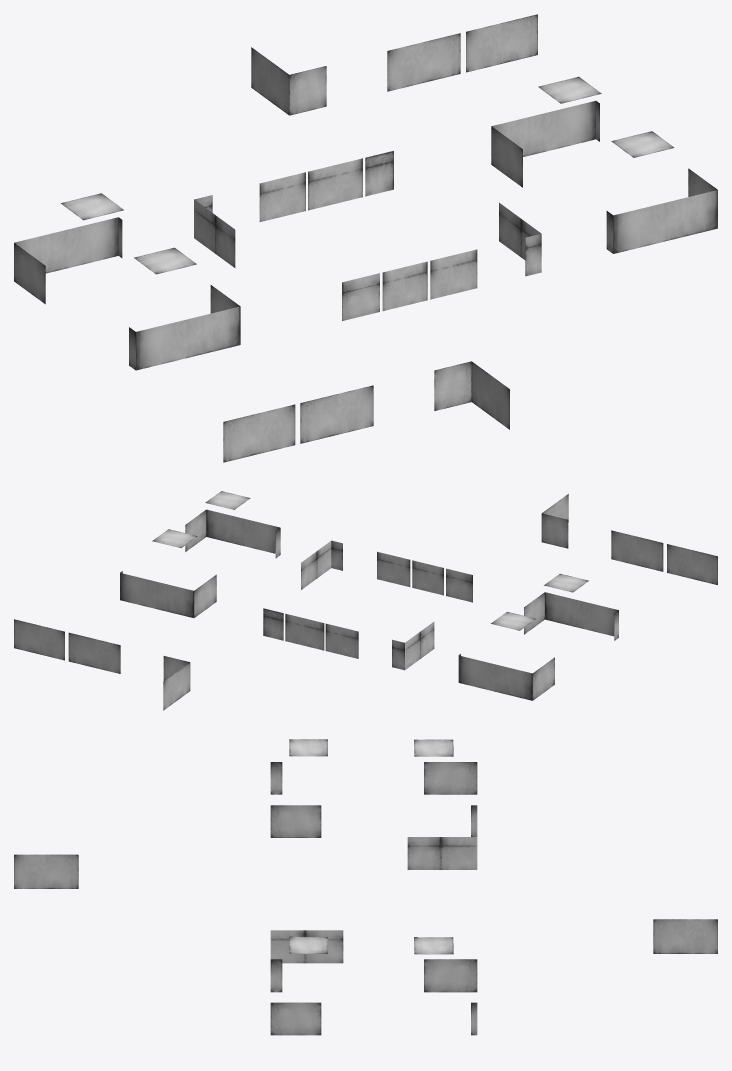
3 views of the same model, one above another, from view 1: azimuth 30°, elevation 25°; view 2: azimuth 150°, elevation 25°; view 3: azimuth 270°, elevation 25° (orthographic). The views are drawn at different scales.
Parts seen in each view (by area): view 1: SM_HK_02_01; view 2: SM_HK_02_01; view 3: SM_HK_02_01.
Boxes of the visible parts, x1=… form: SM_HK_02_01: x1=14, y1=14, x2=717, y2=462; SM_HK_02_01: x1=14, y1=491, x2=717, y2=710; SM_HK_02_01: x1=14, y1=739, x2=717, y2=1035.
Size of the model in its own units: 3353 by 409 by 3688.
